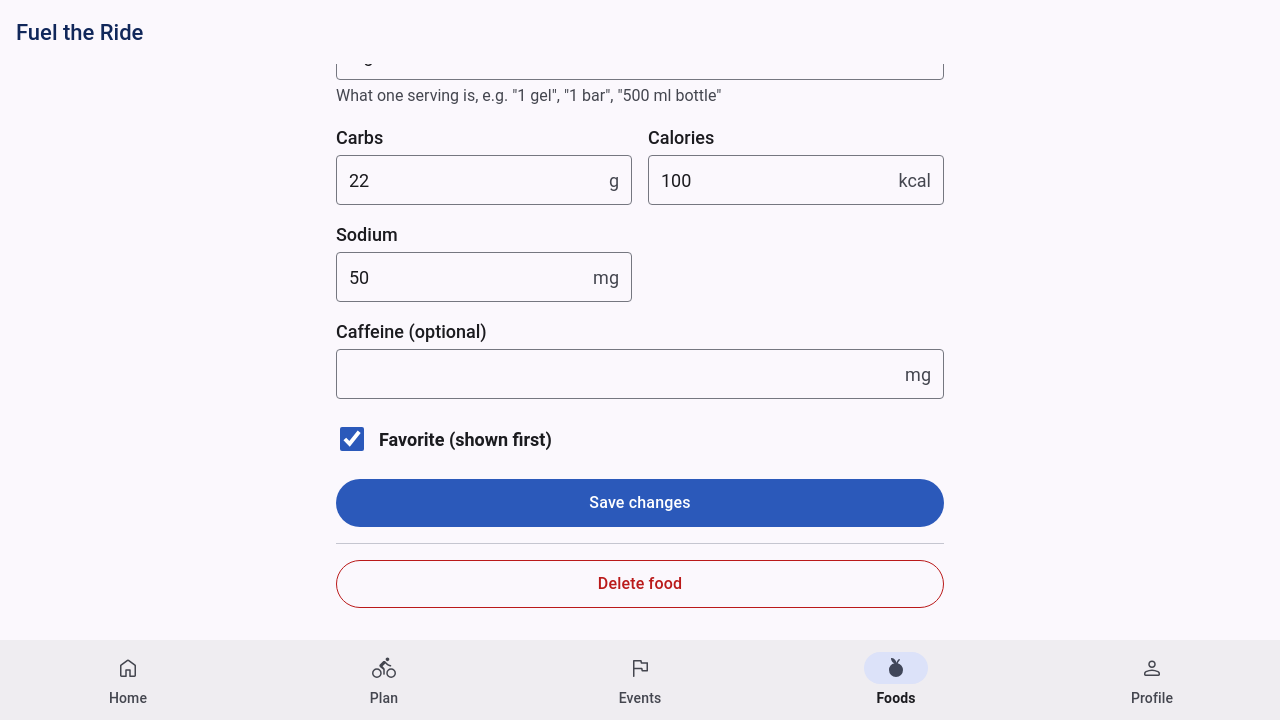
Test: edit and delete food › a food used by past rides is archived, with an explanation
(page scrolled)
Click the button "Delete food".
click(640, 584)  # box 336,560 -> 944,608
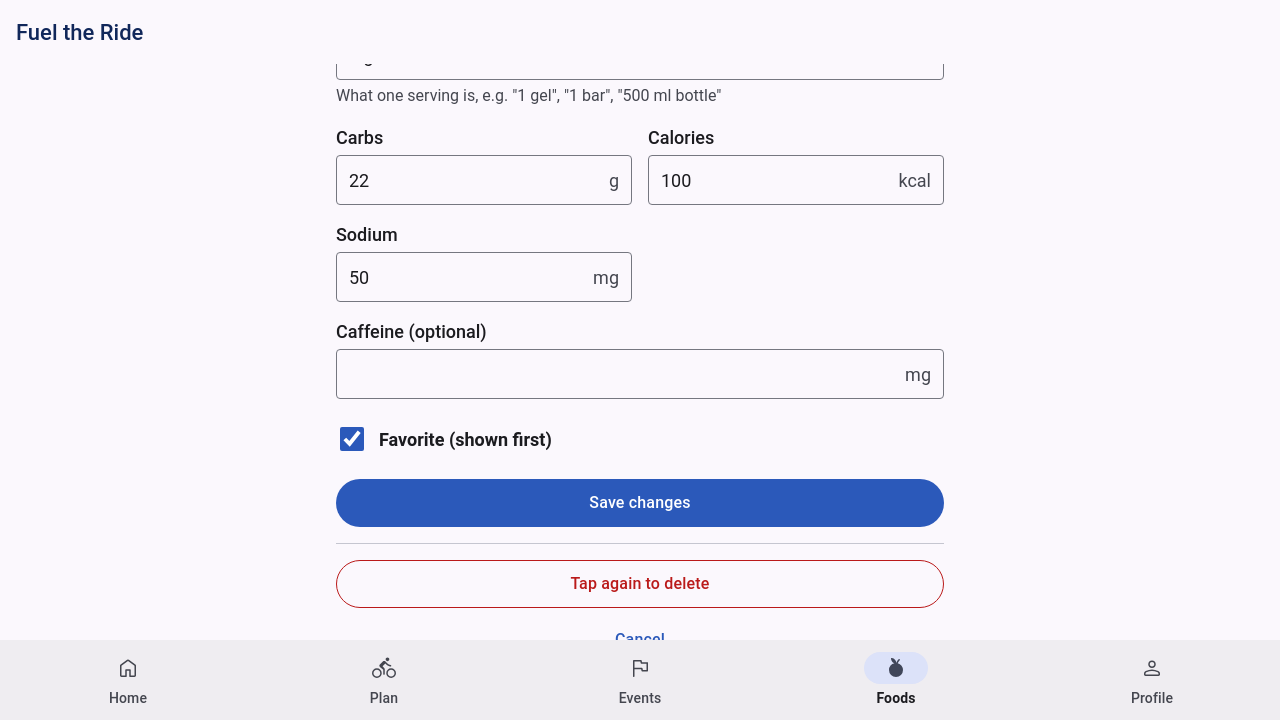
Click the button "Tap again to delete".
click(640, 584)  # box 336,560 -> 944,608
(page scrolled)
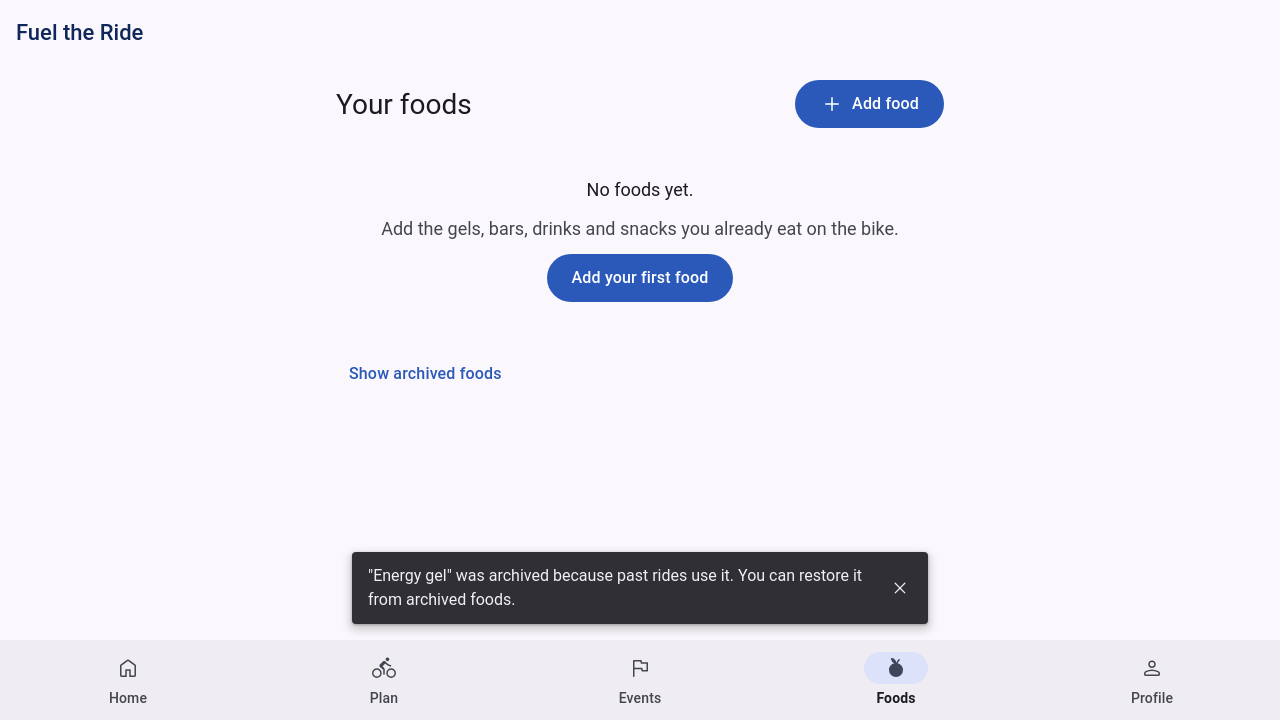
Expected: the text "\"Energy gel\" was archived because past rides use it" is shown, 368,566 -> 862,609
